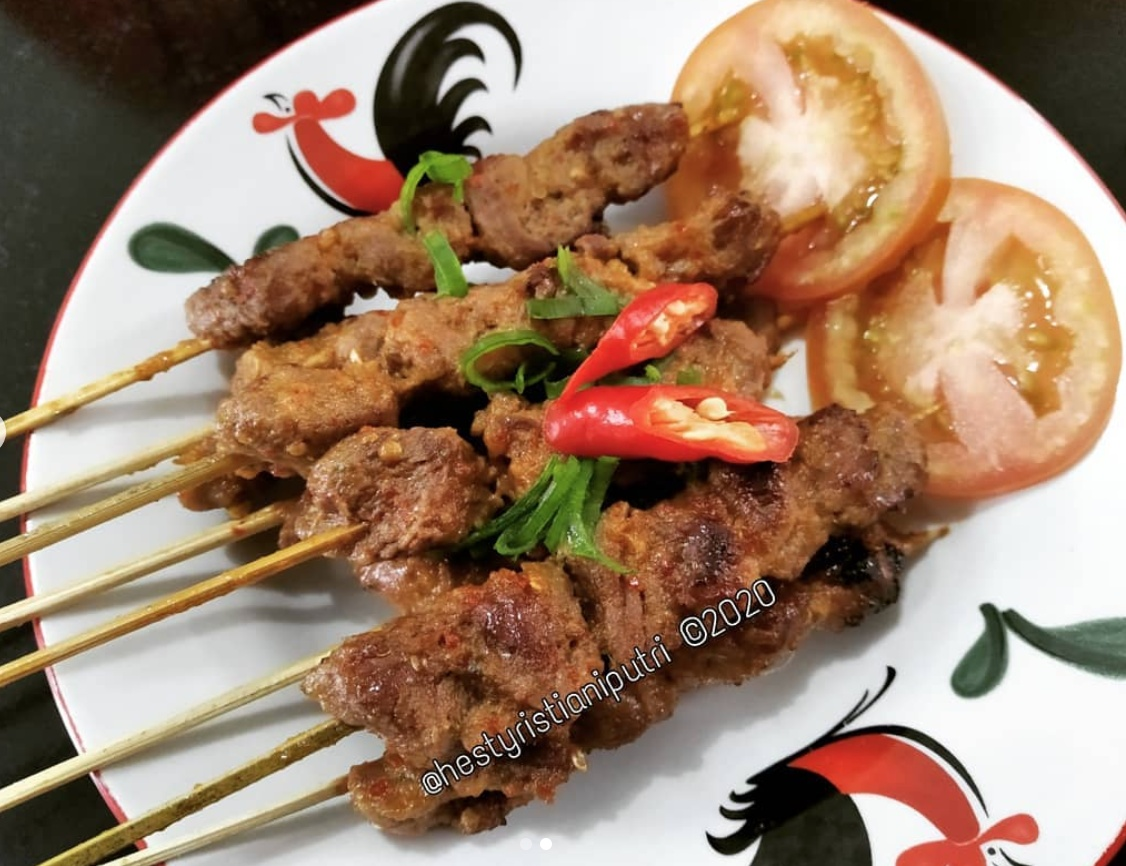sate: (0, 105, 946, 866)
